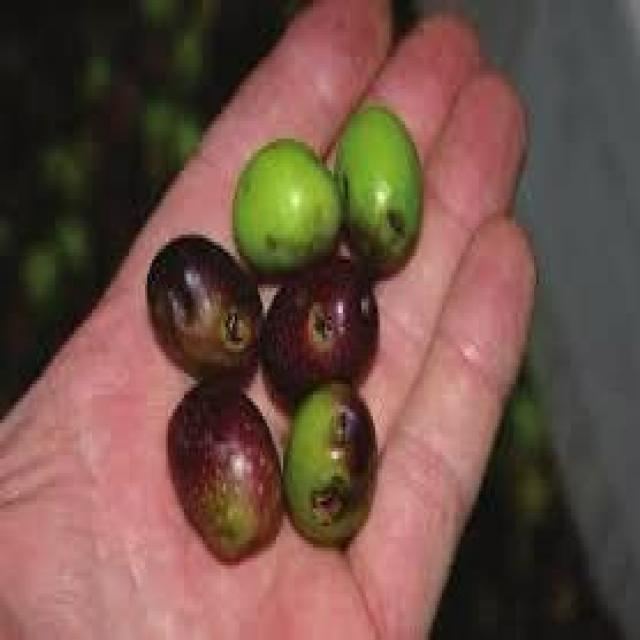Anthracnose: (167, 384, 276, 555), (260, 259, 375, 402), (150, 235, 258, 386), (334, 103, 421, 274), (283, 384, 374, 546), (232, 142, 336, 281)
